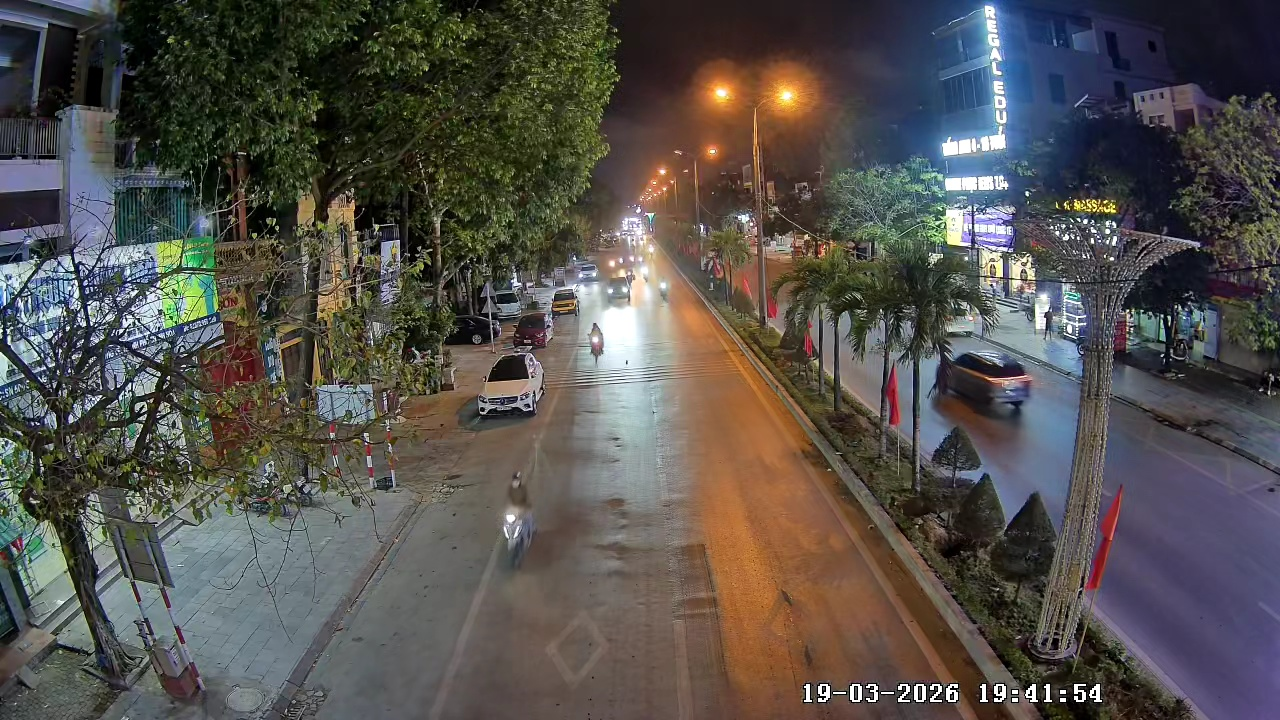bike: (498, 469, 538, 569)
car: (932, 339, 1033, 418), (475, 348, 547, 418), (512, 308, 553, 349), (605, 277, 639, 306), (550, 287, 581, 316)
motorbike: (588, 322, 607, 359), (656, 277, 676, 305)
